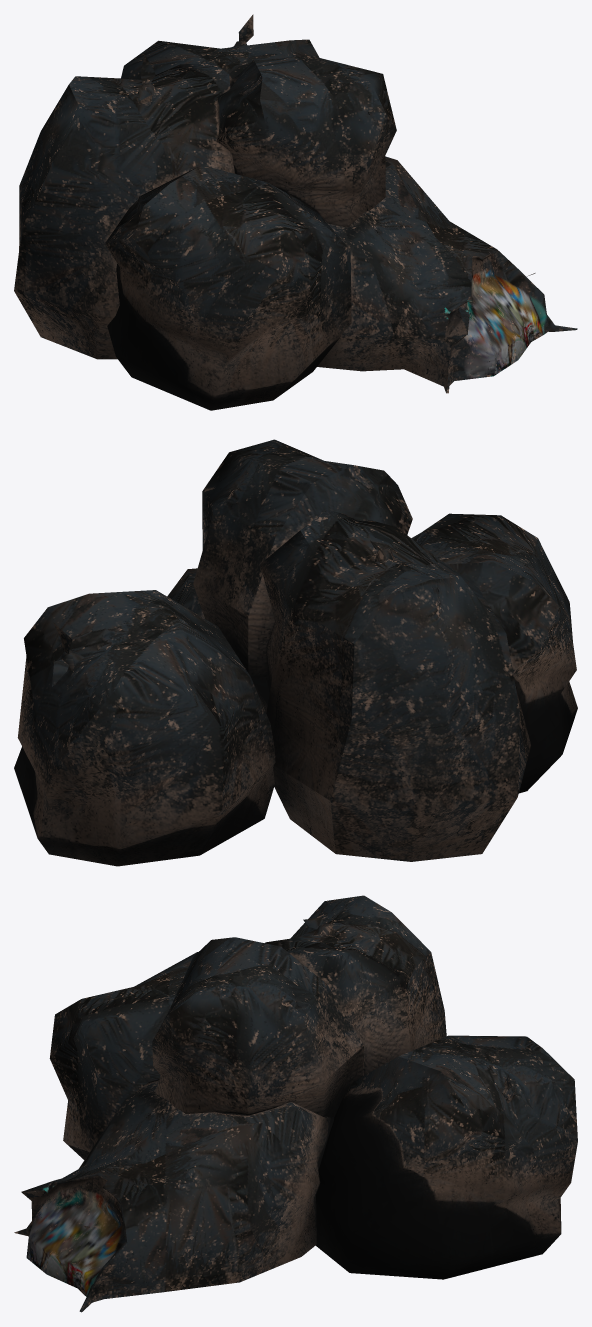
The model's file is rubbish3.fbx.
3 renders of one model, top to bottom at view 1: azimuth 30°, elevation 25°; view 2: azimuth 150°, elevation 25°; view 3: azimuth 270°, elevation 25°, orthographic. The views are drawn at different scales.
Visible parts, largest first — view 1: rubish3_LOD0; view 2: rubish3_LOD0; view 3: rubish3_LOD0.
Boxes of the visible parts, x1,y1,x2,y2 form: rubish3_LOD0: (14, 14, 577, 410); rubish3_LOD0: (14, 439, 577, 866); rubish3_LOD0: (14, 895, 577, 1312).
Size of what is drawn, in the model's own units: 2.77 by 1.58 by 3.07.
